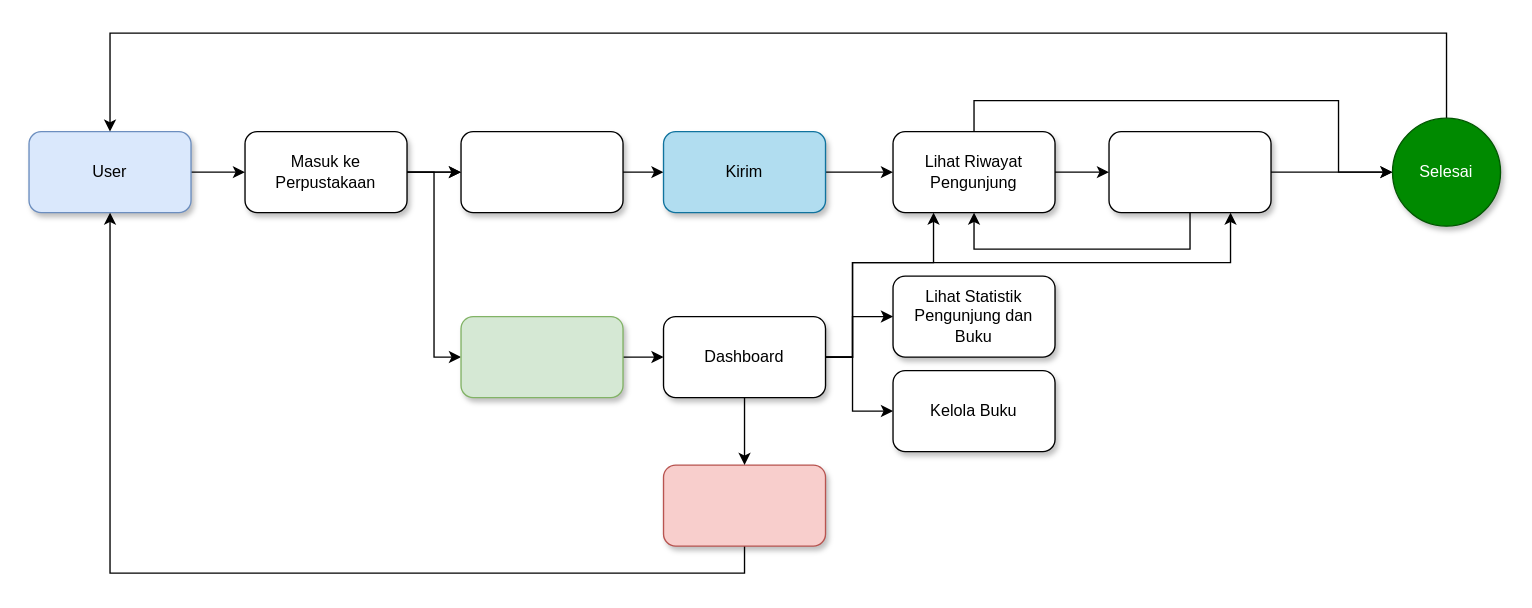
Some shapes in this 1532 by 608 pixel diagram are drawn without their labels. The shapes that lost their labels are listed below. From the top down, each one's centre as x and y in pixels, then its label:
At pixel 542 173: "Isi Form Kunjungan".
At pixel 1190 173: "Mencari Buku".
At pixel 542 358: "Login".
At pixel 745 507: "Logout".
